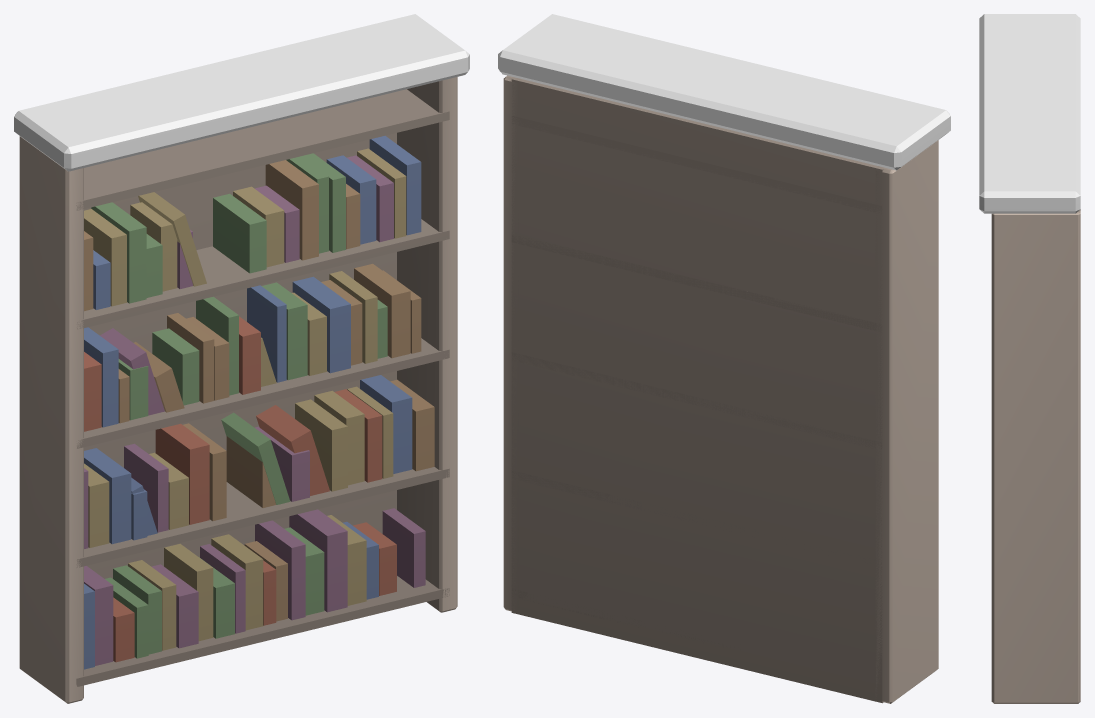
The model's file is bookshelf_gallery_1.glb.
3 views of the same model, side by side, from view 1: azimuth 30°, elevation 25°; view 2: azimuth 150°, elevation 25°; view 3: azimuth 270°, elevation 25° (orthographic). The views are drawn at different scales.
Parts seen in each view (by area): view 1: book; view 2: book; view 3: book.
Boxes of the visible parts, left/top/right/bottom form: book: left=14, top=14, right=469, bottom=703; book: left=498, top=14, right=950, bottom=703; book: left=979, top=14, right=1080, bottom=703.
Size of the model in its own units: 1.74 by 2.3 by 0.41.
